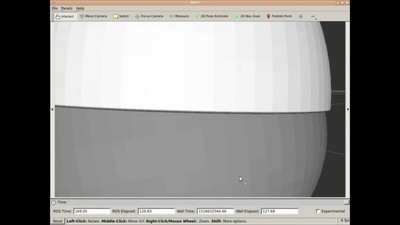mira_robot: (53, 21, 332, 195)
